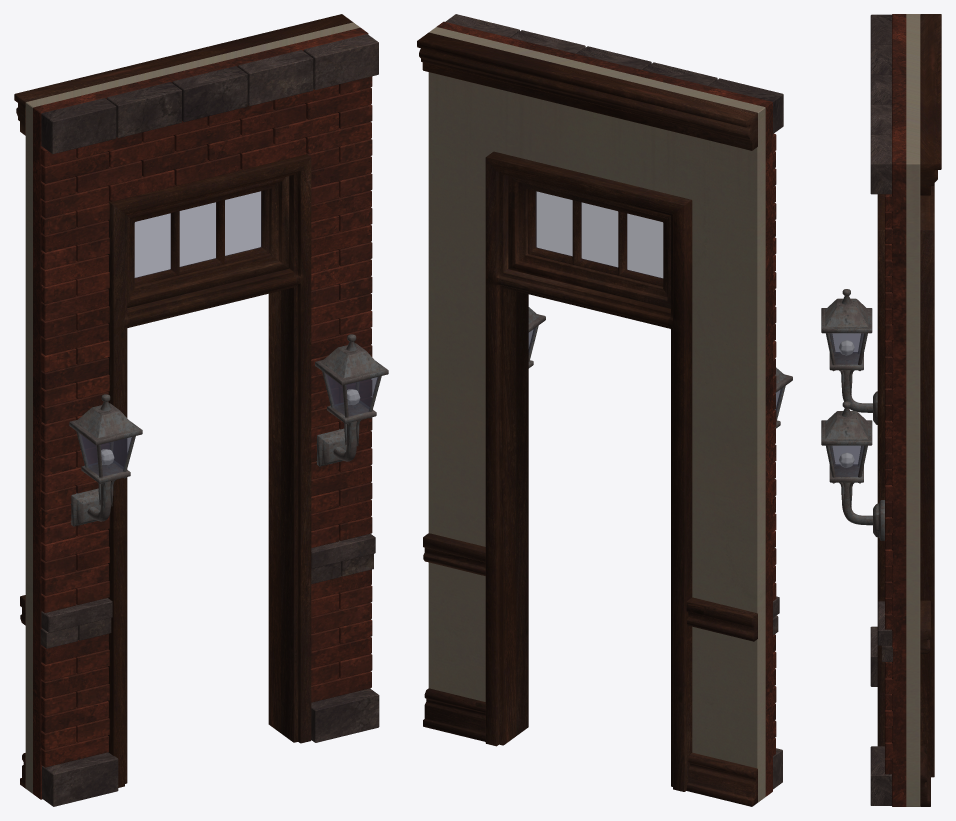
File: SK1 DOOR1.fbx
The picture shows the model from 3 angles, left to right: view 1: azimuth 30°, elevation 25°; view 2: azimuth 150°, elevation 25°; view 3: azimuth 270°, elevation 25°; orthographic projection. The views are drawn at different scales.
Visible parts, largest first — view 1: SK1 DOOR1; view 2: SK1 DOOR1; view 3: SK1 DOOR1.
Boxes of the visible parts, x1,y1,x2,y2 form: SK1 DOOR1: [14, 14, 388, 806]; SK1 DOOR1: [417, 14, 792, 806]; SK1 DOOR1: [821, 14, 941, 806].
Bounding box in the file's own units: 200 × 400 × 67.73.
